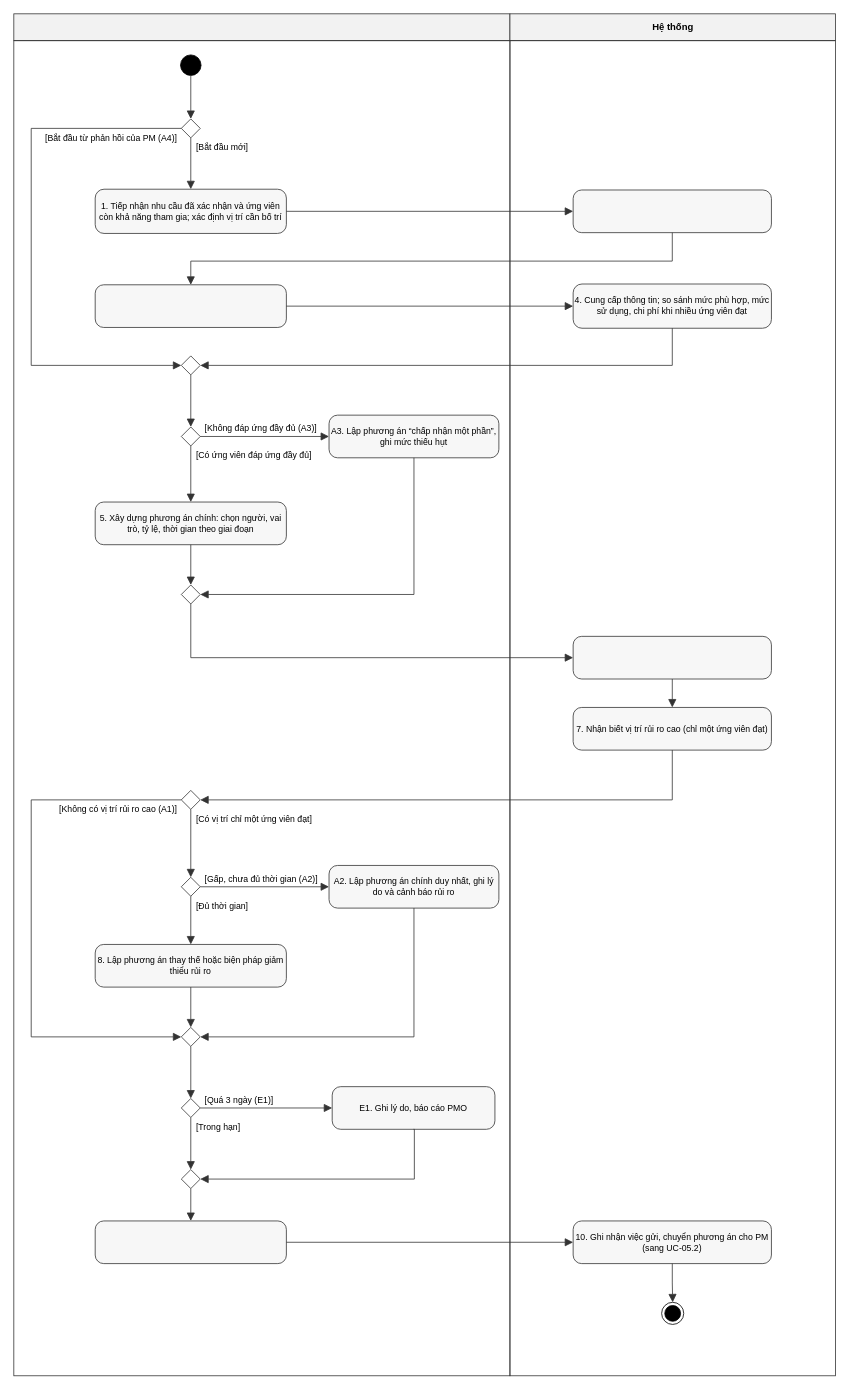
The diagram is 849 pixels wide and 1390 high, and some of its shapes have lost their labels. The box of each missing label's shape, as (x1, y1, x2, y2) in pixels:
2. Hiển thị theo vị trí: nhu cầu, ứng viên, kết luận khả năng tham gia (V5): (572, 189, 771, 233)
3. Tra cứu hồ sơ năng lực, mức sử dụng, lịch phân bổ, nguồn cung còn lại: (94, 284, 286, 327)
6. Lưu phương án, trạng thái “đang xây dựng” (bắt đầu tính hạn 3 ngày làm việc): (572, 636, 771, 679)
9. Gửi phương án bố trí (chính và thay thế) cho PM xem xét: (94, 1220, 286, 1264)
RM: (13, 13, 510, 41)
